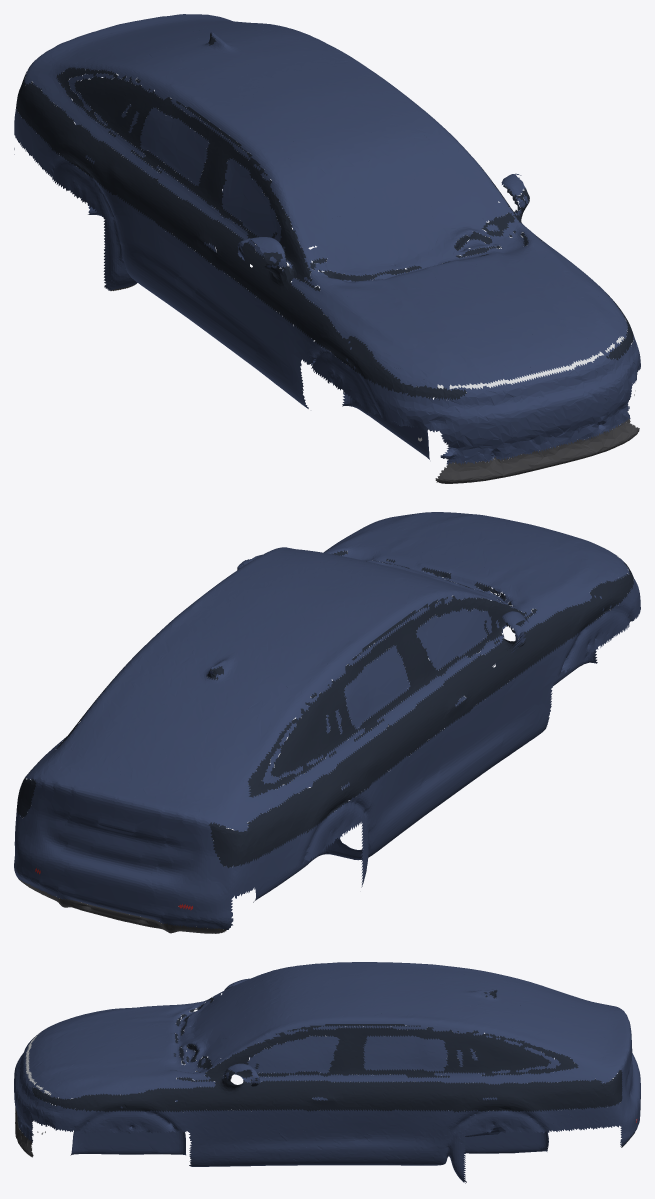
Rendered from sedan_body.glb.
3 views of the same model, one above another, from view 1: azimuth 30°, elevation 25°; view 2: azimuth 150°, elevation 25°; view 3: azimuth 270°, elevation 25° (orthographic). The views are drawn at different scales.
Parts seen in each view (by area): view 1: paint, glass, dark, light_front; view 2: paint, glass, dark; view 3: paint, glass, dark.
Part boxes in pixels (<box>): paint: <box>14,14,640,464</box>; glass: <box>16,33,633,400</box>; dark: <box>110,283,639,483</box>; light_front: <box>418,336,635,441</box>; paint: <box>14,512,640,929</box>; glass: <box>16,550,633,868</box>; dark: <box>18,878,226,933</box>; paint: <box>14,962,640,1183</box>; glass: <box>32,986,622,1112</box>; dark: <box>15,1108,634,1157</box>.
Size of the model in its own units: 1.86 by 1.46 by 4.99.
